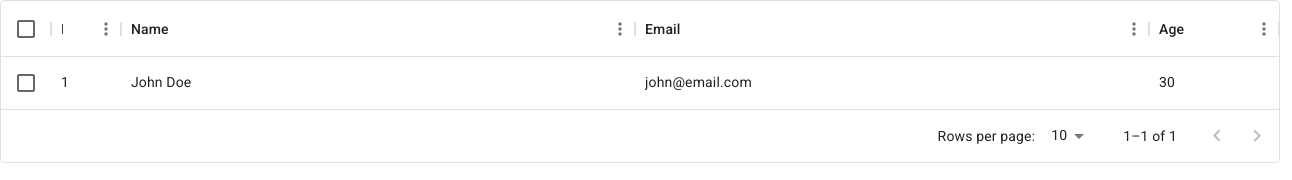
handles select/unselect all rows
Click the checkbox named "Select all rows" at coordinates (26, 28), box [14,16,38,40]
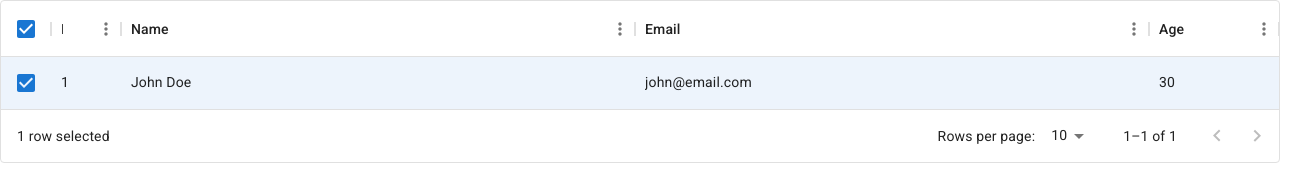
Expected: the text "1 row selected" is shown, [17,126,110,146]
Click the checkbox named "Unselect all rows" at coordinates (26, 28), box [14,16,38,40]
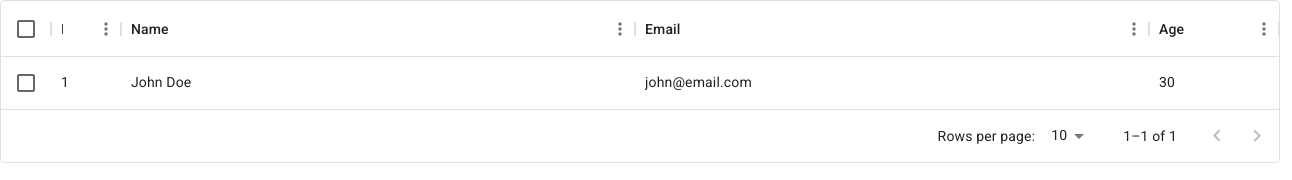
Expected: the text "1 row selected" is gone
